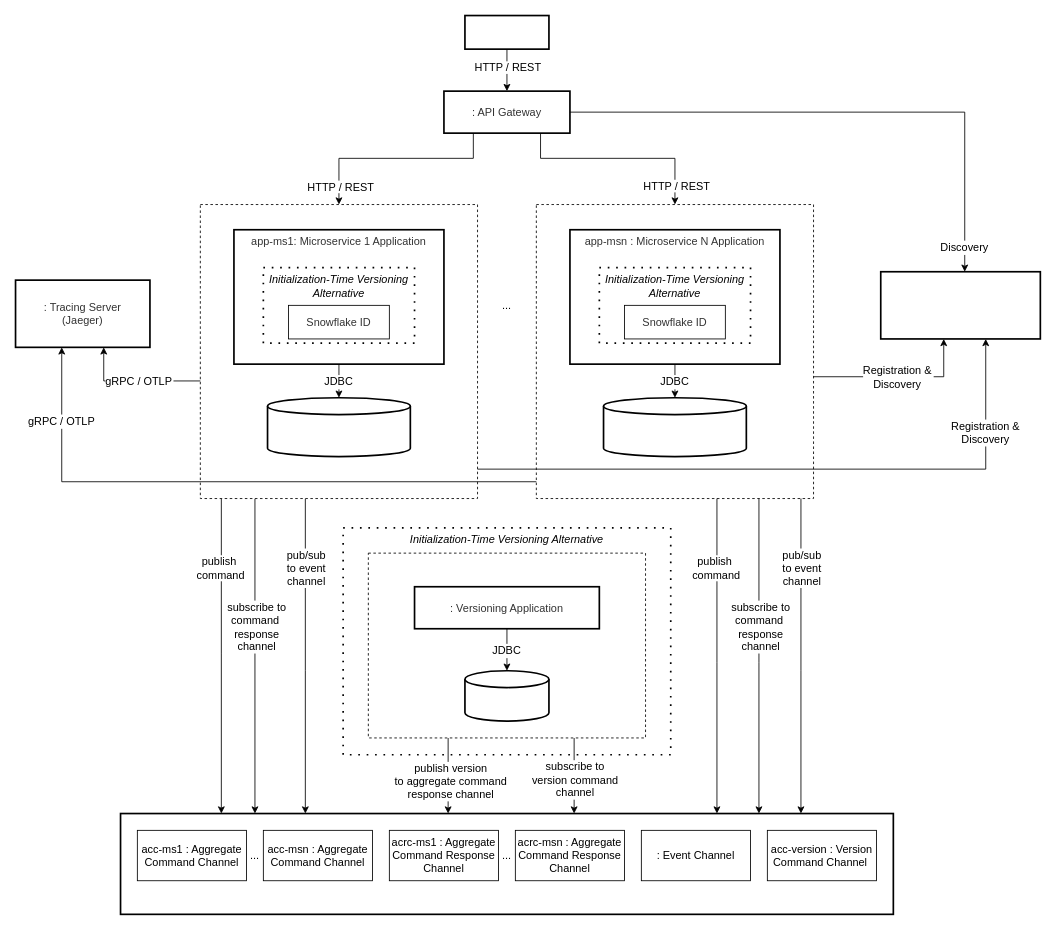
The diagram is 1055 pixels wide and 929 high, and some of its shapes have lost their labels. Here are the shapes that lost their labels. From the top down, the box of each, then its label:
(464, 14, 549, 50): : Web Client
(879, 270, 1041, 339): : Service Discovery (Eureka)
(200, 204, 478, 499): ms1 : Microservice 1 System
(536, 204, 814, 499): msn : Microservice N System
(266, 396, 411, 457): db-ms1 : Microservice 1 DB
(602, 396, 747, 457): db-msn : Microservice N DB
(368, 552, 646, 738): : Centralized Versioning System
(464, 669, 549, 722): : Version DB
(119, 812, 894, 915): : Message Broker (RabbitMQ)
